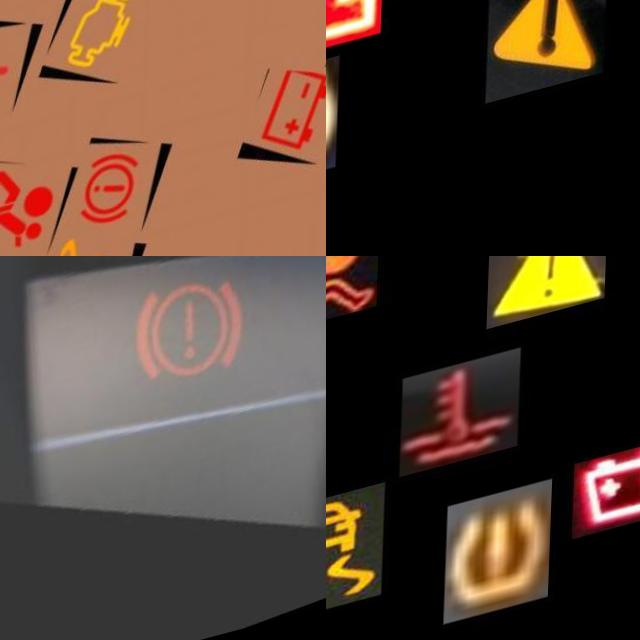Central Warning lamp: (489, 0, 611, 131), (489, 256, 609, 343)
Engine cooling system: (403, 364, 524, 488)
